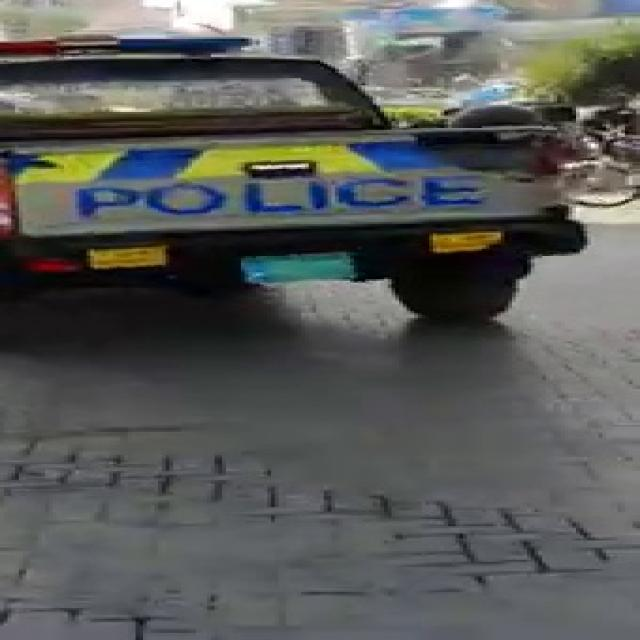police: (26, 34, 578, 314)
